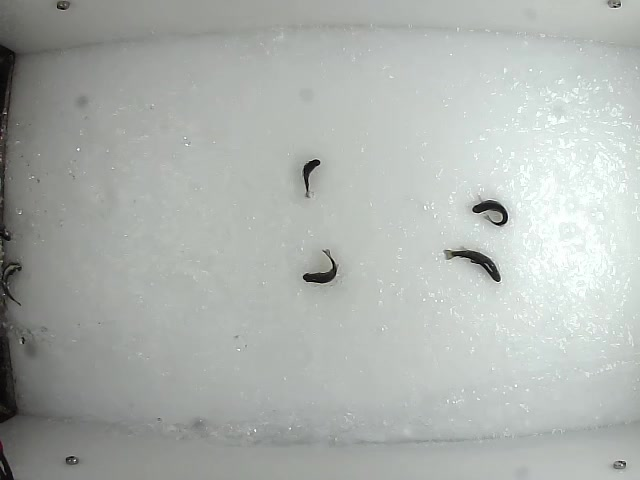fish: (442, 247, 501, 283), (299, 246, 339, 286), (470, 197, 509, 229), (1, 257, 25, 307), (300, 155, 321, 202)
